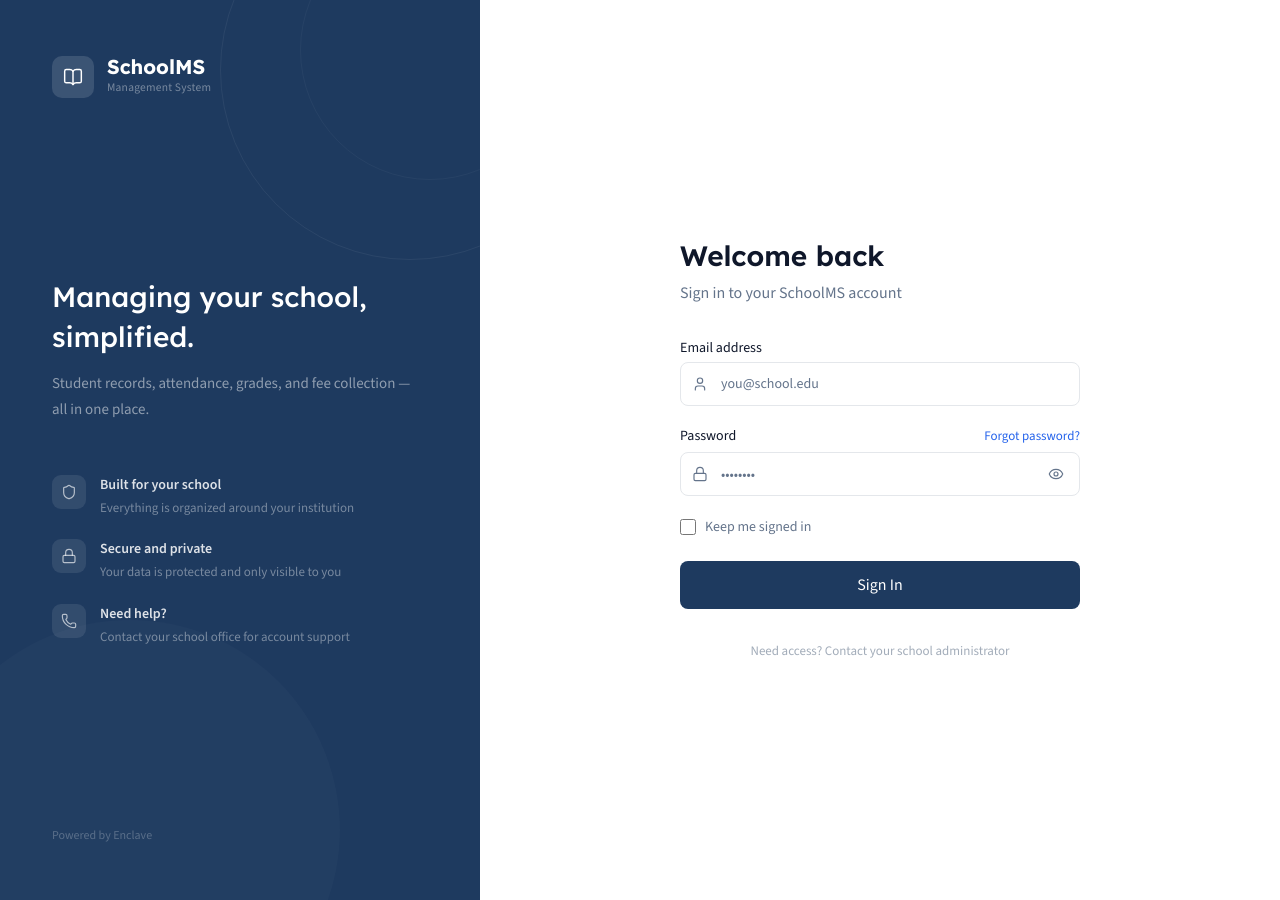
Scenario: LoginPage › disables the submit button while the request is in flight
Type "admin@test.com" into the field labelled "Email address". click: {"x": 880, "y": 384}
box: [680,362,1080,406]
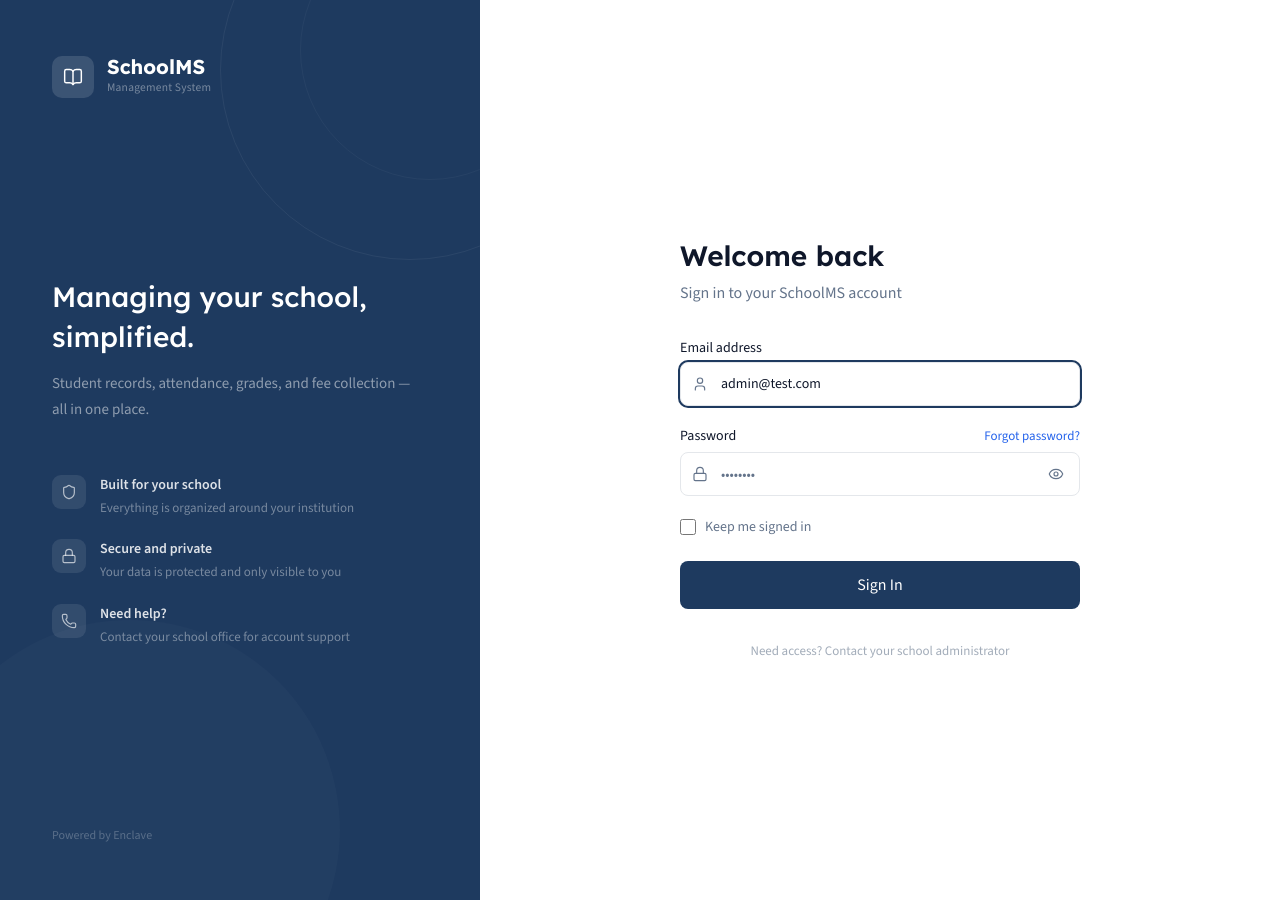
Type "Passw0rd!" into the password field labelled "Password". click: {"x": 880, "y": 474}
box: [680,452,1080,496]
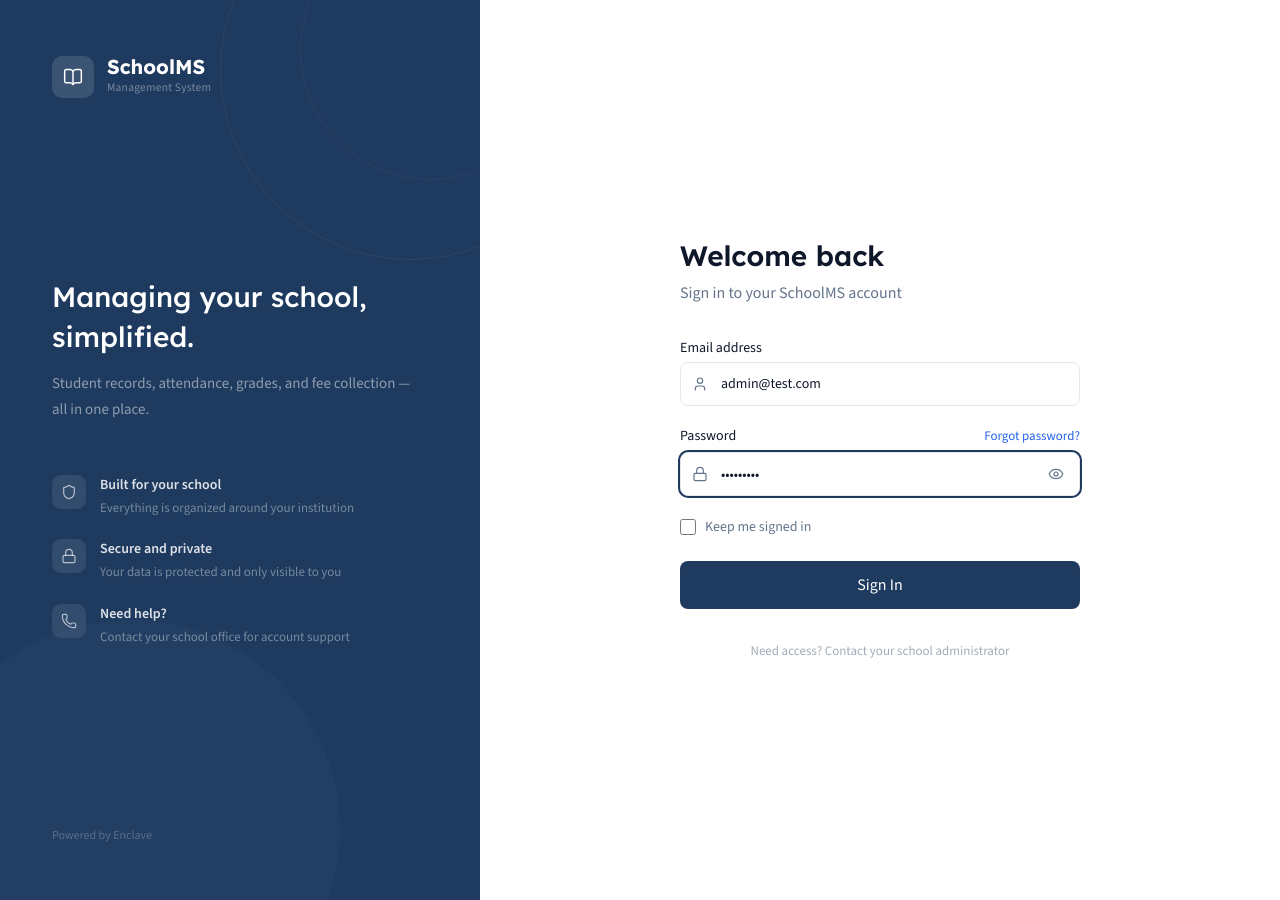
Click the button "Sign In". click: {"x": 880, "y": 585}
box: [680,561,1080,609]
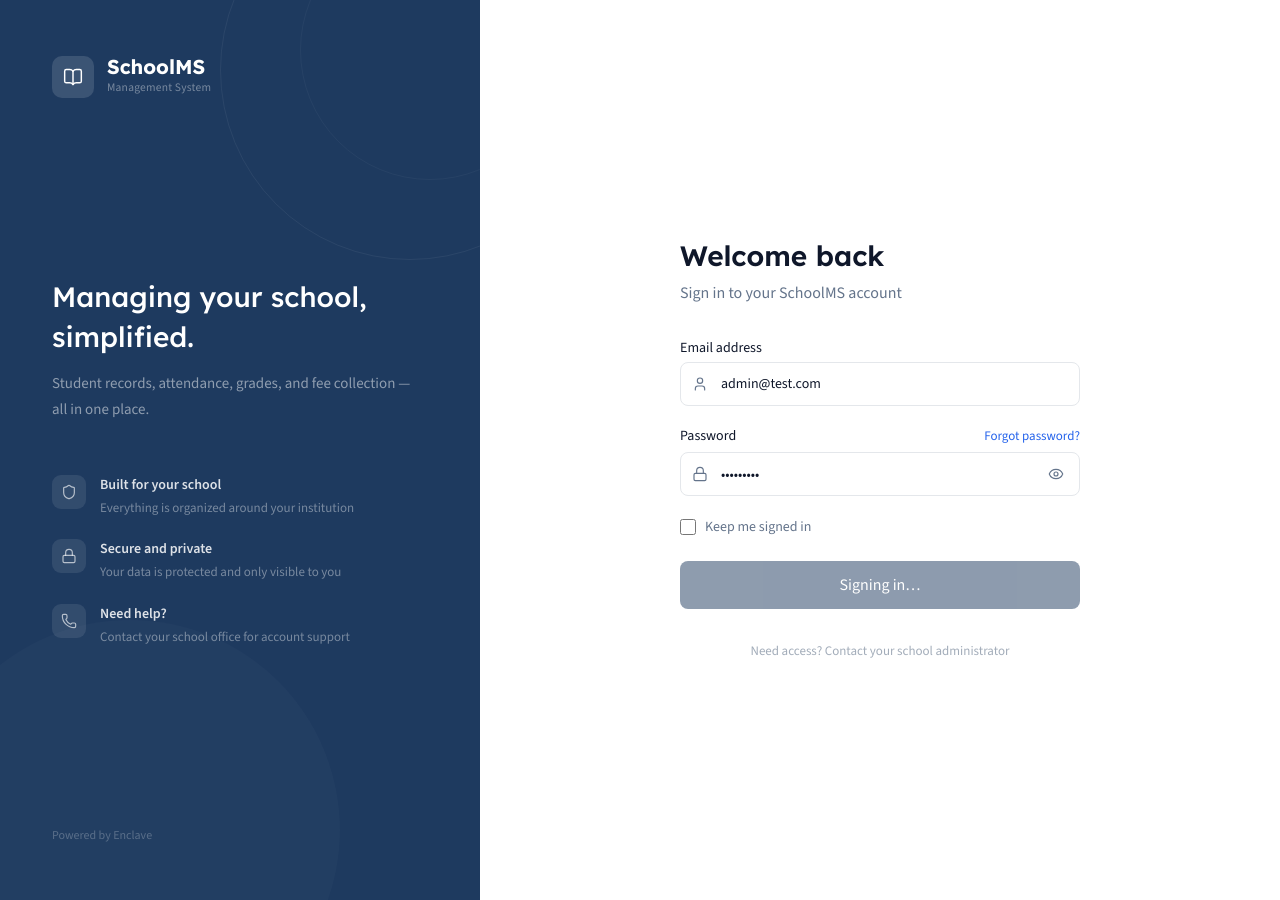
Check: the button "Signing in…" is disabled, box [680,561,1080,609]
